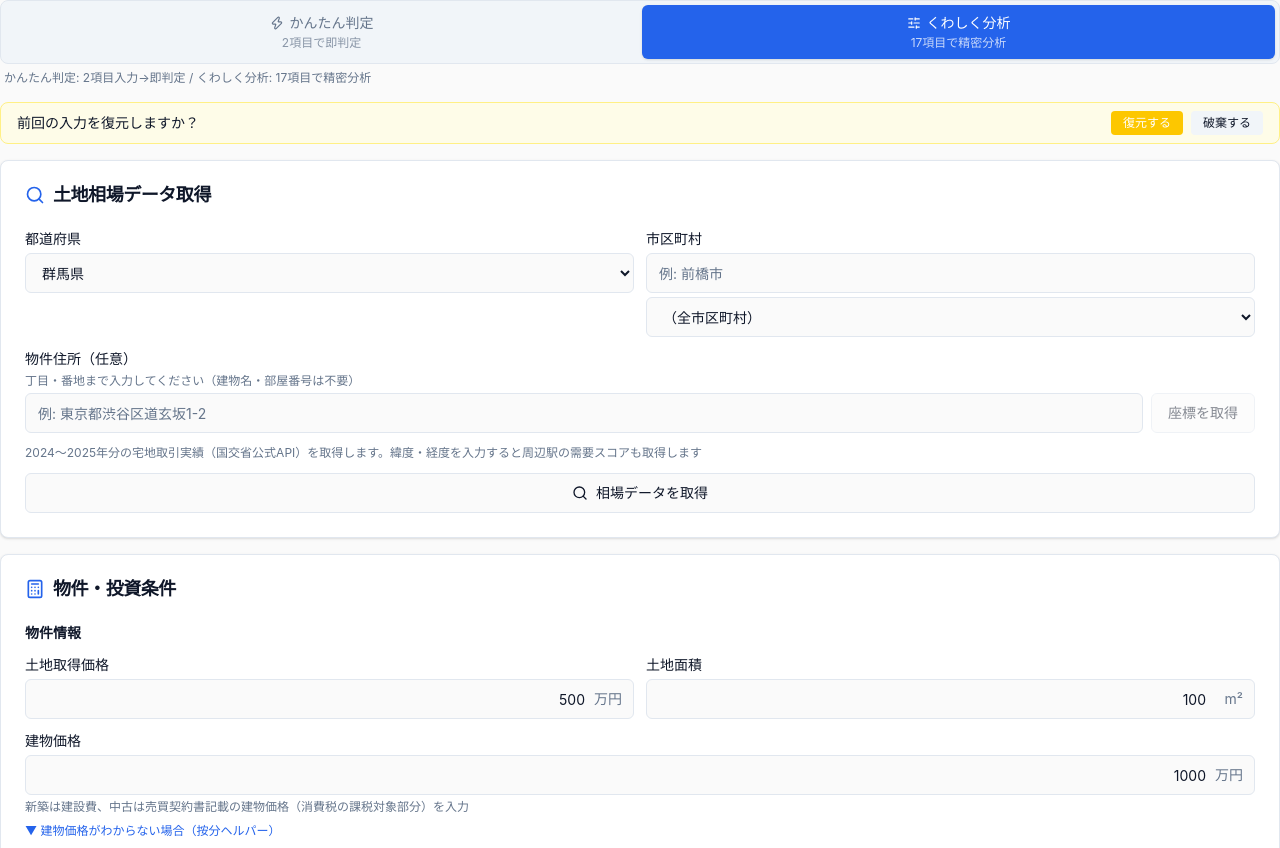
Test case: InvestmentForm › 住所ジオコーディング › ZERO_RESULTS エラー時にエラーメッセージと手動入力フォールバックが表示される
Step 1. Type "存在しない住所99999" into the field named "物件住所" → x=584, y=413, box [25,393,1143,433]
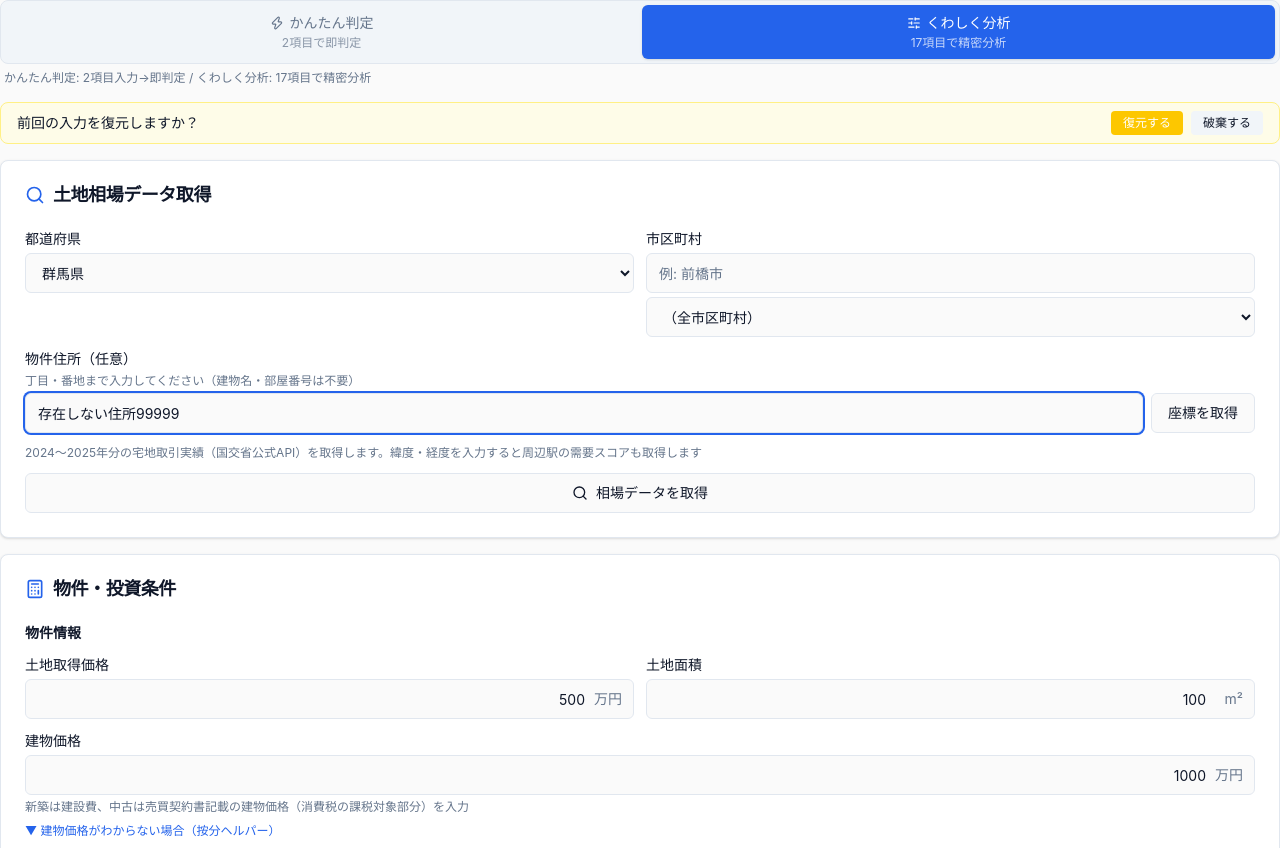
Step 2. Click the button "座標を取得" → x=1203, y=413, box [1151,393,1255,433]
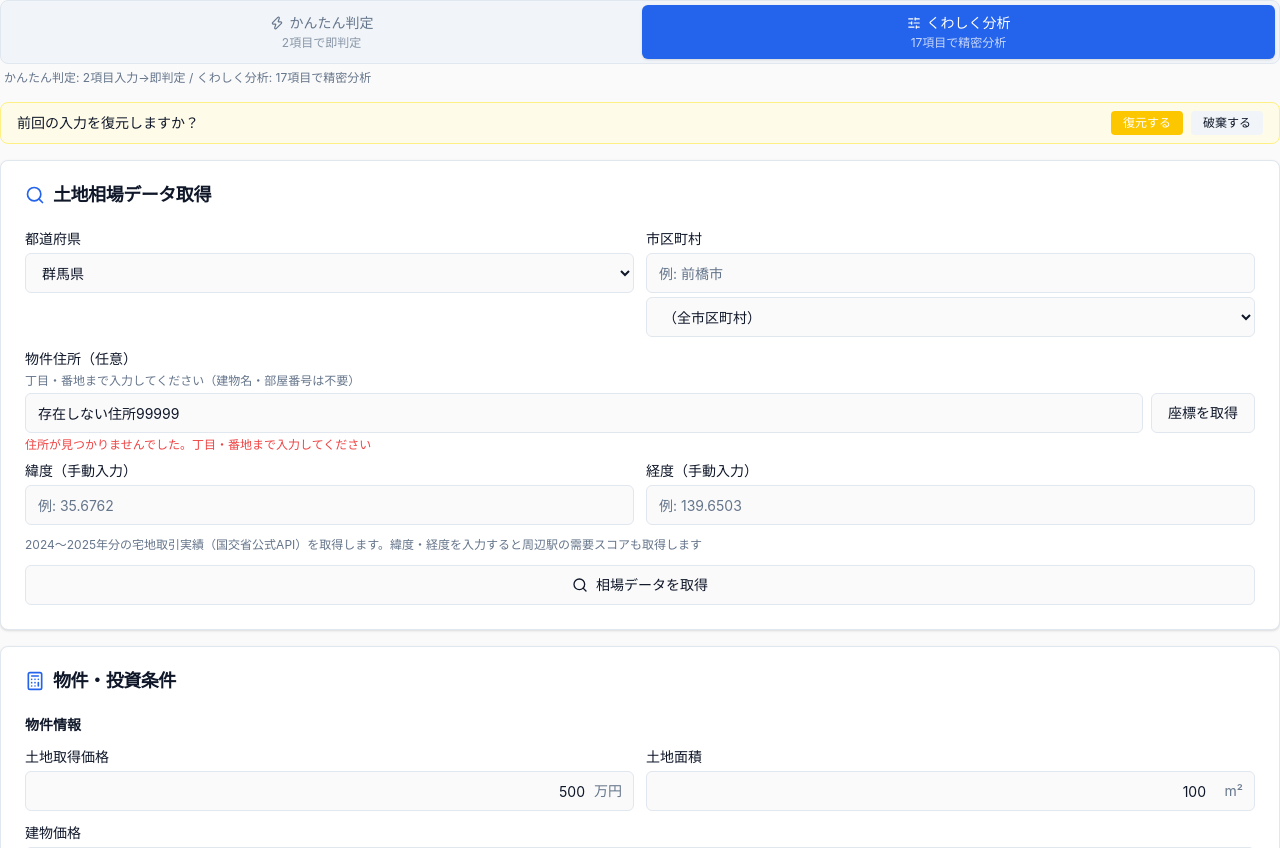
Check: the text "住所が見つかりませんでした。丁目・番地まで入力してください" is shown, box [25,437,371,452]
Check: the number field named "物件の緯度" is shown, box [25,485,634,525]
Check: the number field named "物件の経度" is shown, box [646,485,1255,525]
